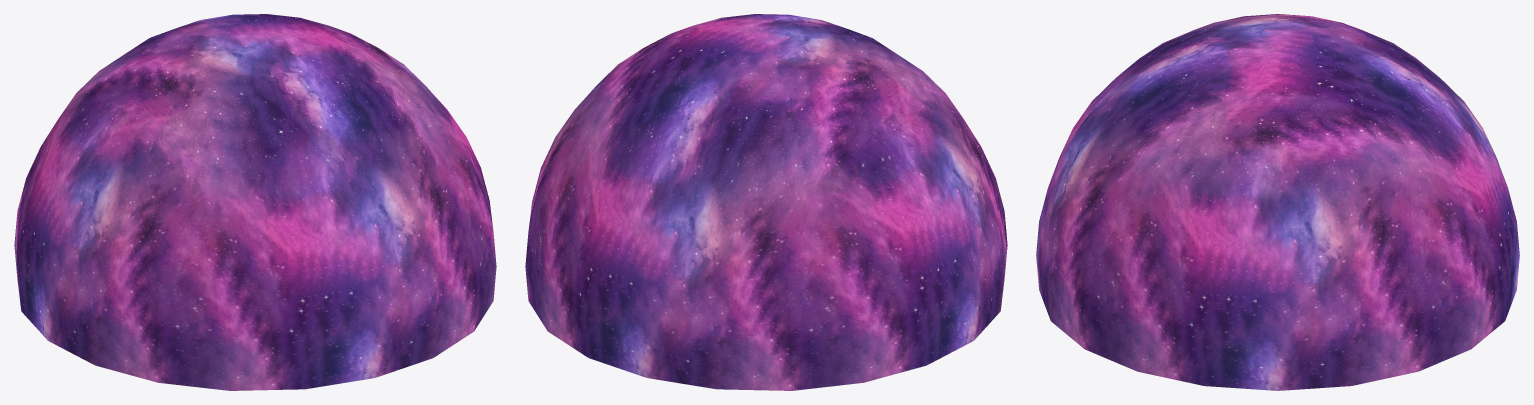
The model's file is skybox2.glb.
3 views of the same model, side by side, from view 1: azimuth 30°, elevation 25°; view 2: azimuth 150°, elevation 25°; view 3: azimuth 270°, elevation 25° (orthographic).
Parts seen in each view (by area): view 1: AS; view 2: AS; view 3: AS.
Part boxes in pixels (box(x1,y1,x2,y2)): AS: box(14, 14, 496, 390); AS: box(525, 14, 1007, 390); AS: box(1036, 14, 1519, 390).
Bounding box in the file's own units: 1.02 × 0.5882 × 1.02.
Materials: 3 (3 with a texture image).
